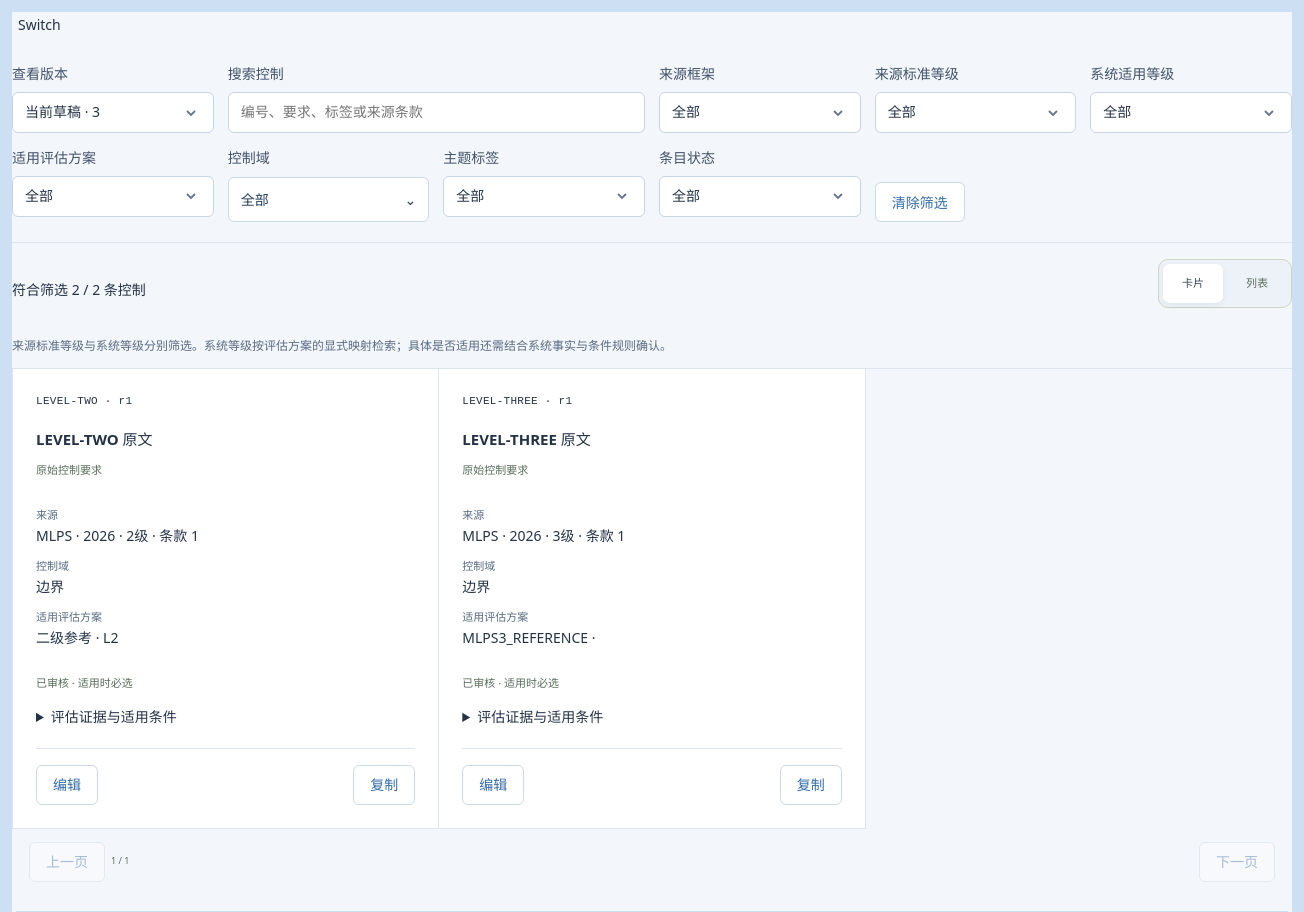
Test: separates MLPS levels in the framework filter without another filter
Select "MLPS Level 2" in the dropdown labelled "来源框架" at [760, 113], box [659,92,861,133]
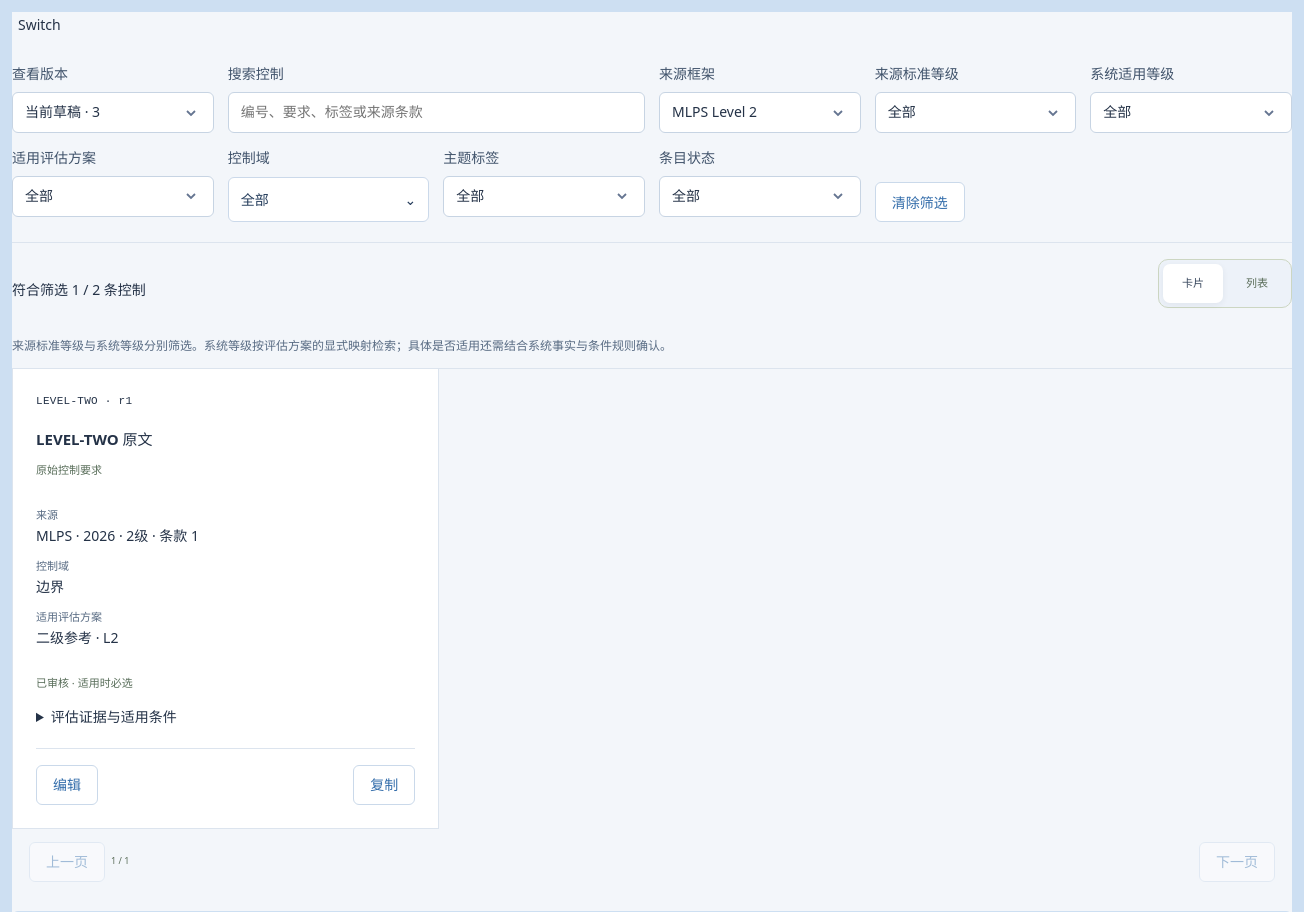
Expected: the heading "LEVEL-TWO 原文" is shown, [36,429,153,449]
Result: the heading "LEVEL-THREE 原文" is gone
Select "MLPS Level 3" in the dropdown labelled "来源框架" at [760, 113], box [659,92,861,133]
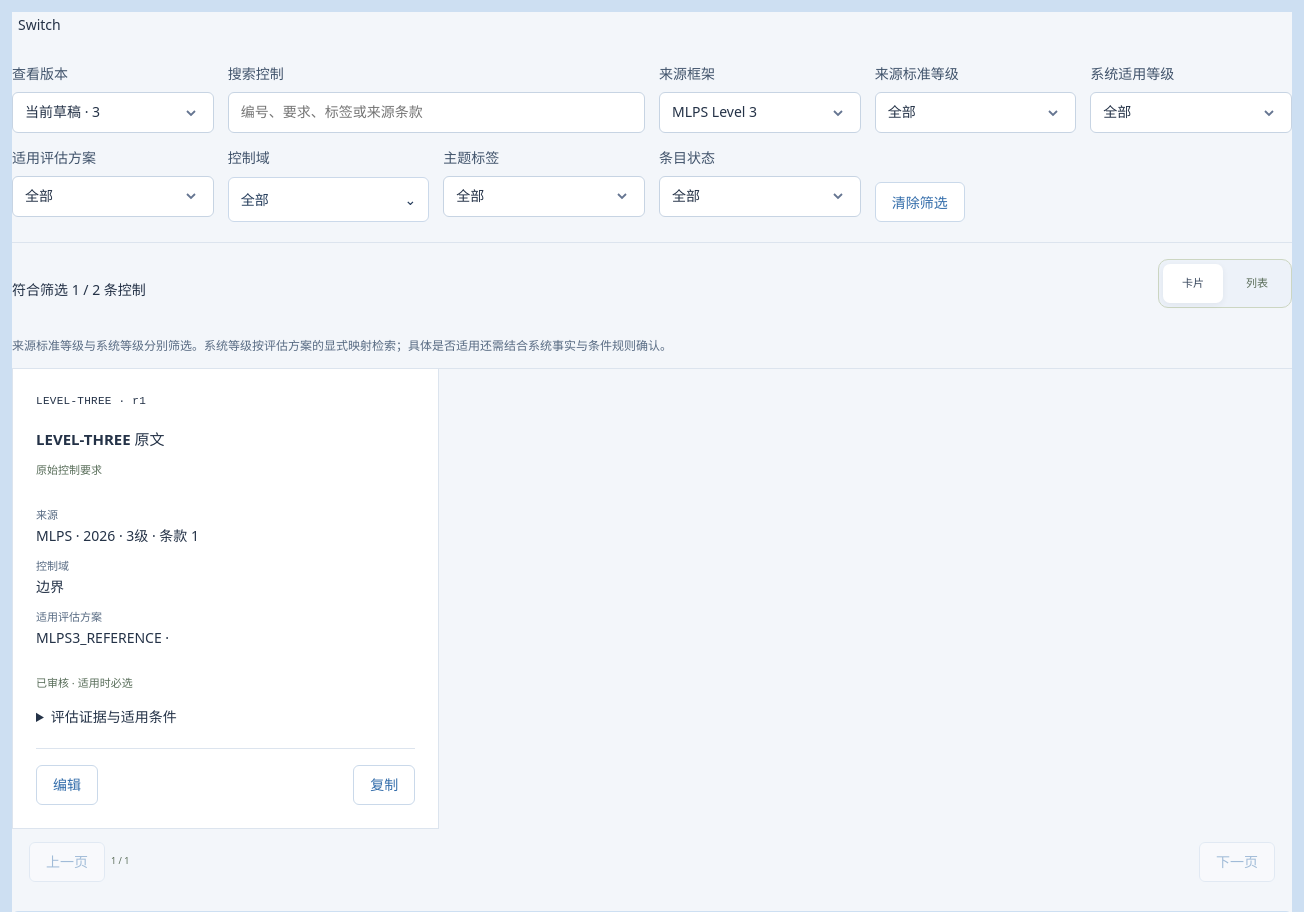
Result: the heading "LEVEL-THREE 原文" is shown at [36,429,164,449]
Result: the heading "LEVEL-TWO 原文" is gone
